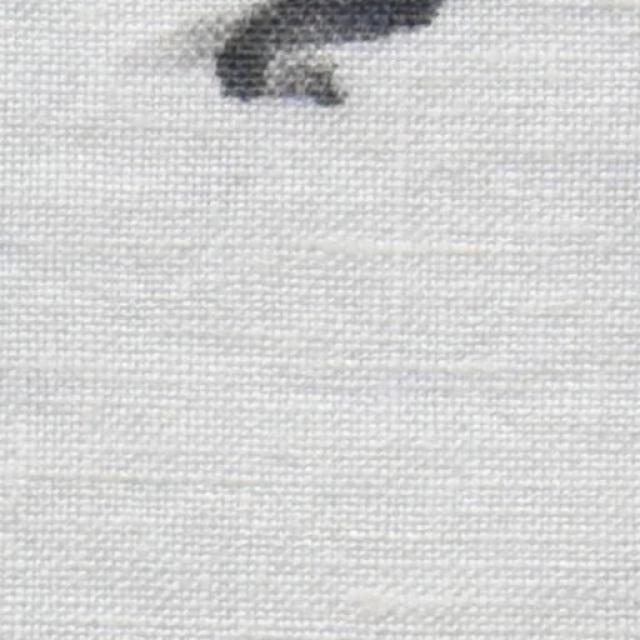Stain: (215, 0, 444, 104)
